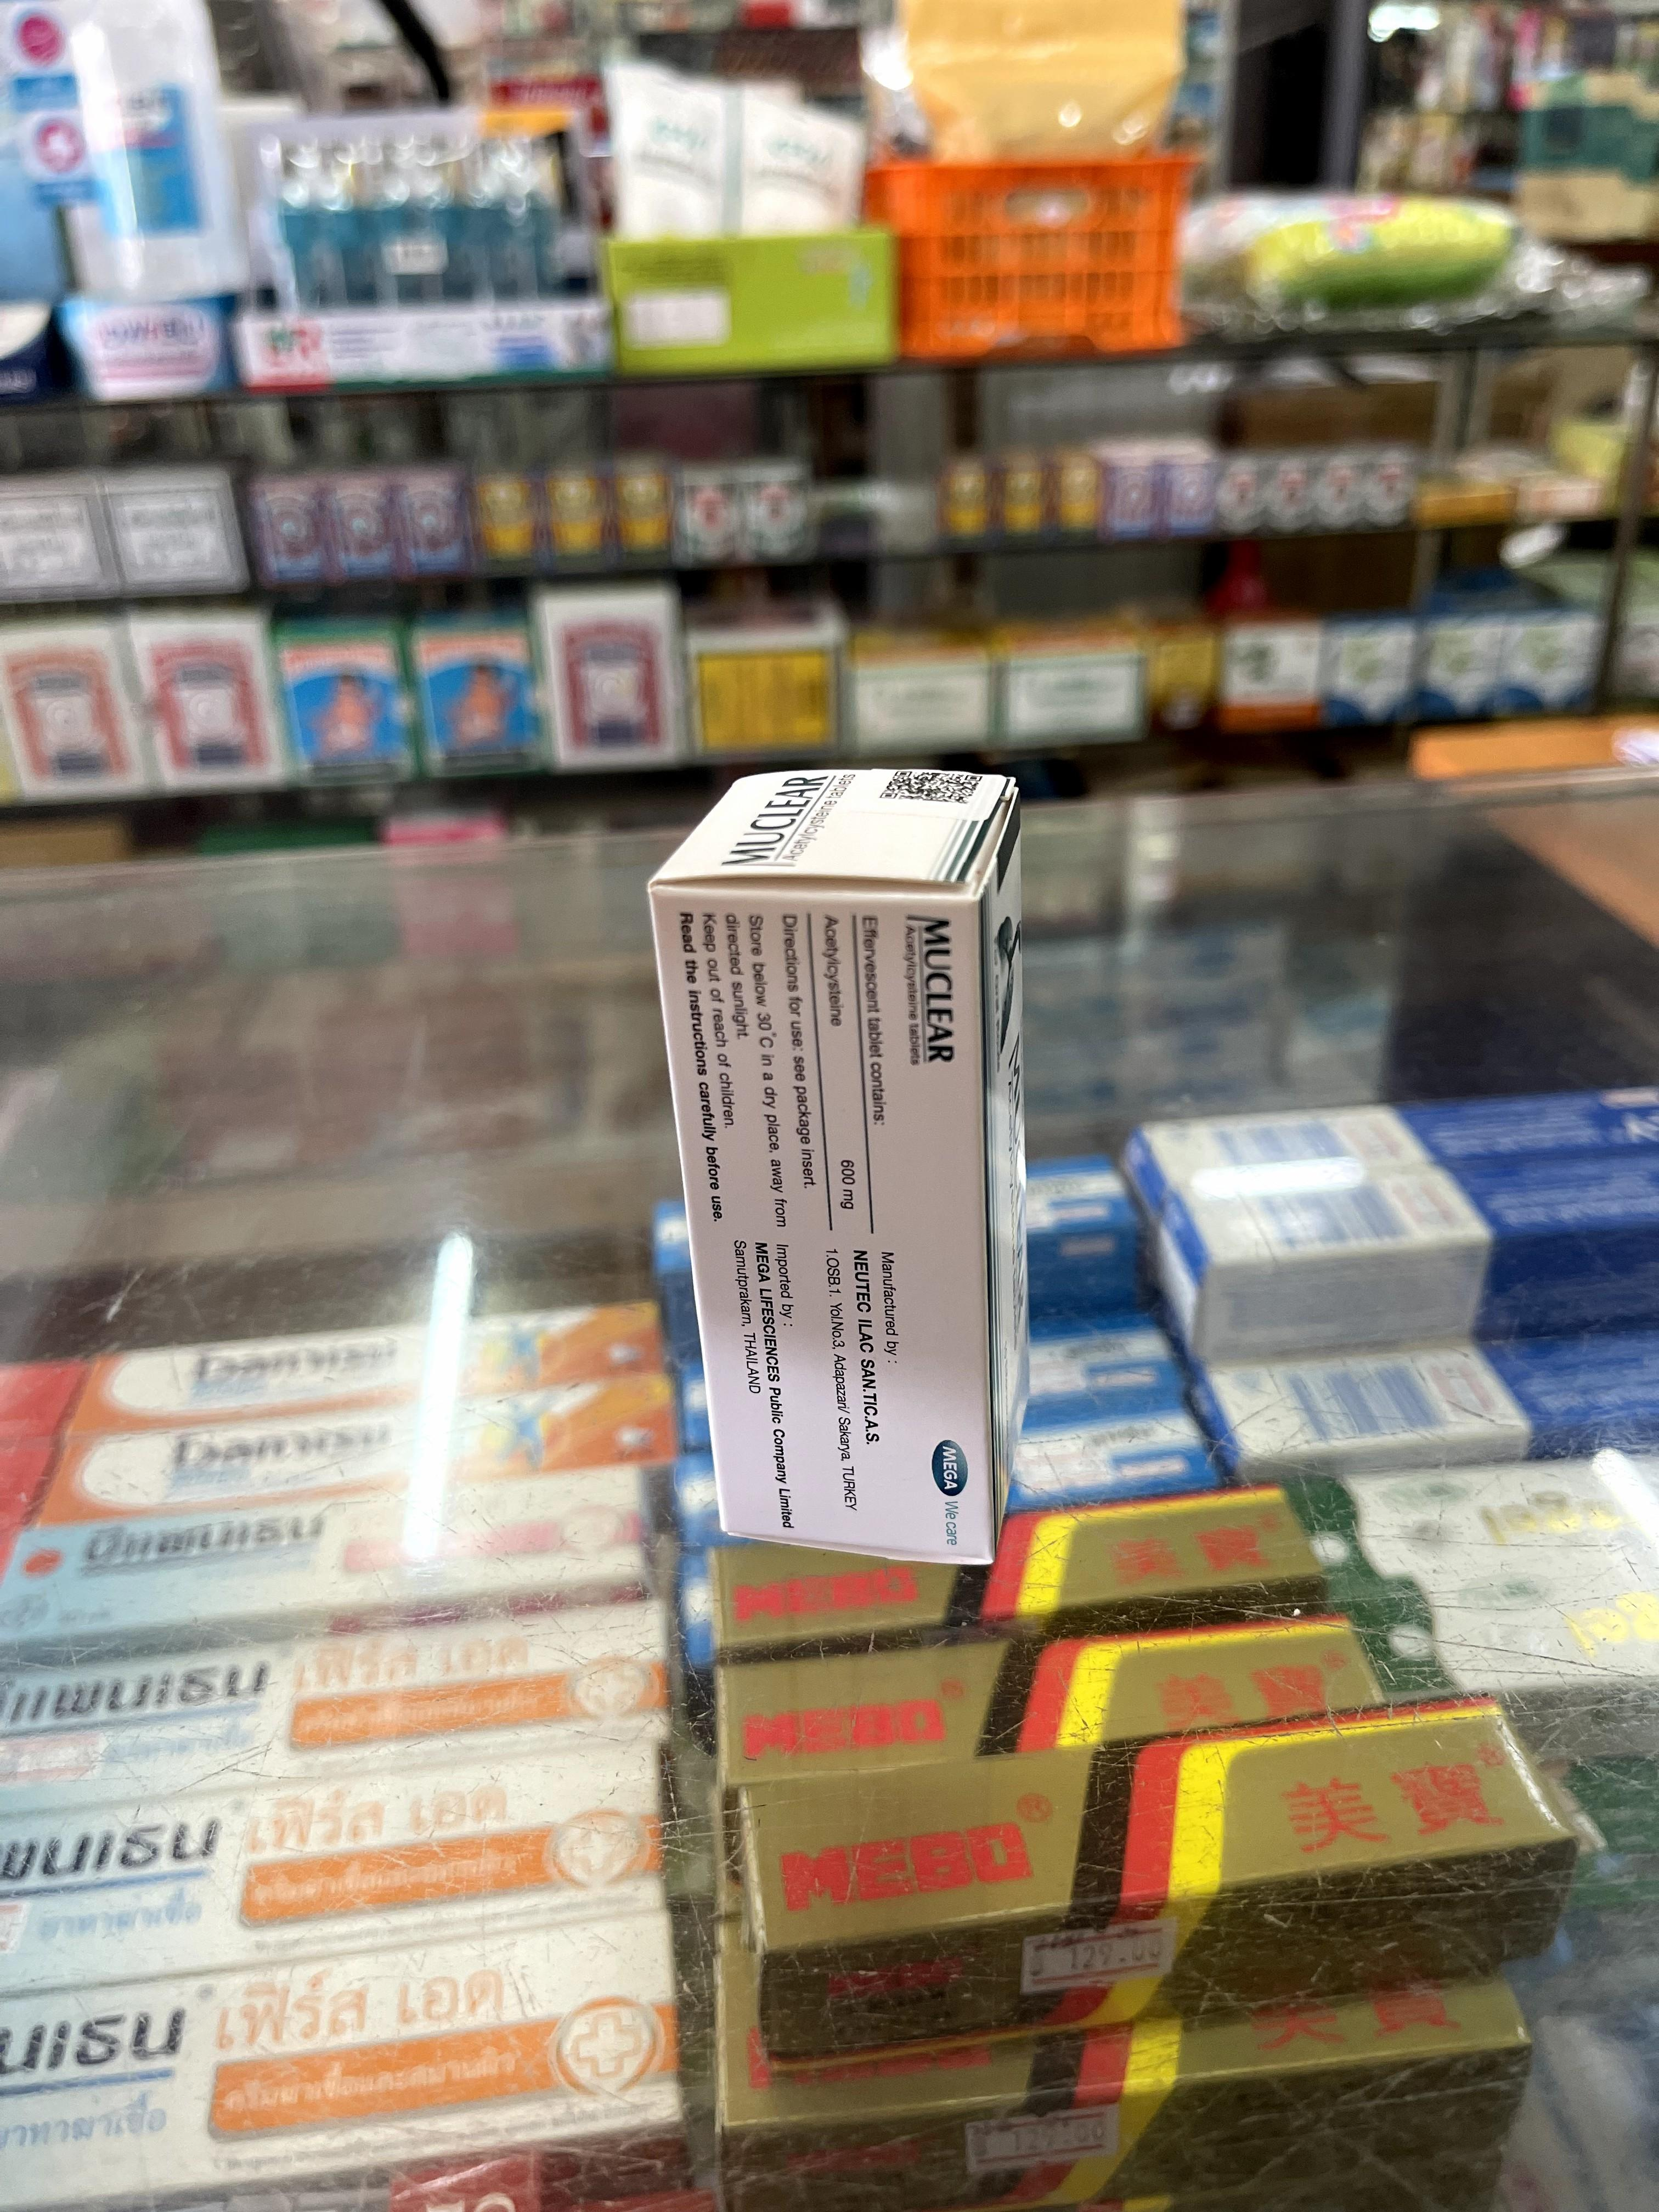Muclear: (647, 765, 1021, 1559)
